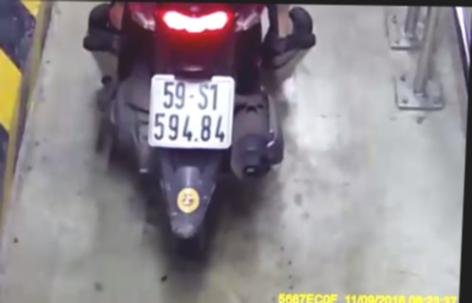License_Plate: (146, 70, 243, 155)
